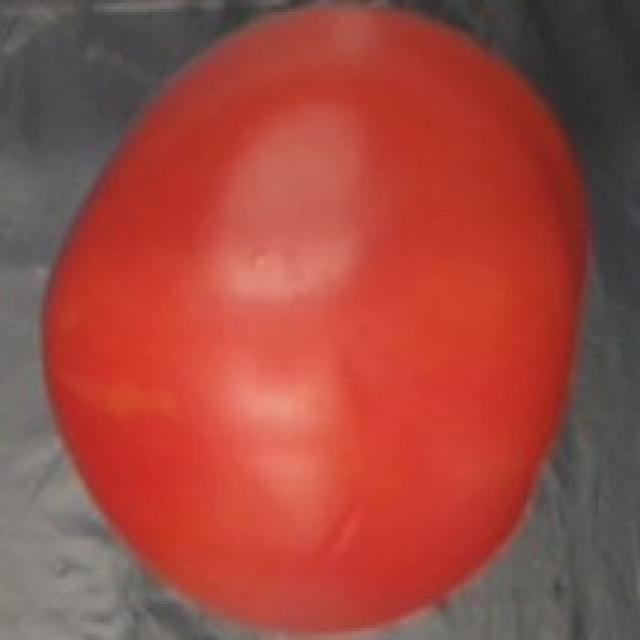ripe tomato: (23, 2, 604, 640)
